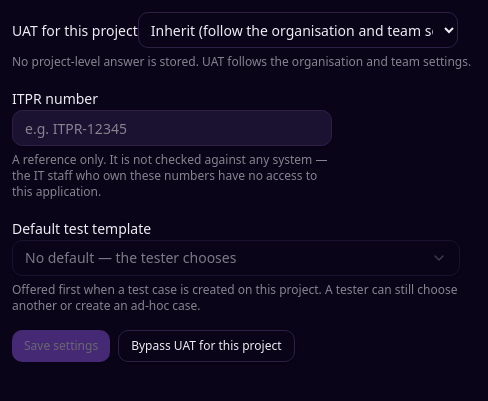
it: enablement has three states, and inherit is one of them › saves nothing until something changes
Expected: the button "Save settings" is disabled, [12,330,110,362]
Type "ITPR-1" into the field labelled "ITPR number" at x=172, y=128, box [12,110,332,146]
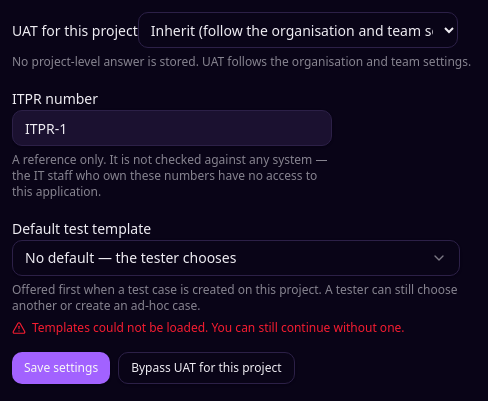
Result: the button "Save settings" is enabled at [12,352,110,384]
